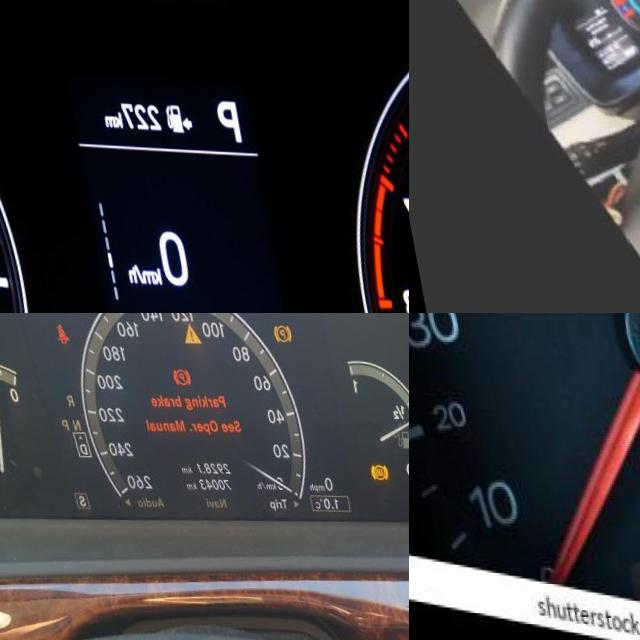Central Warning lamp: (176, 320, 197, 342)
Engine cooling system: (608, 0, 617, 3)
